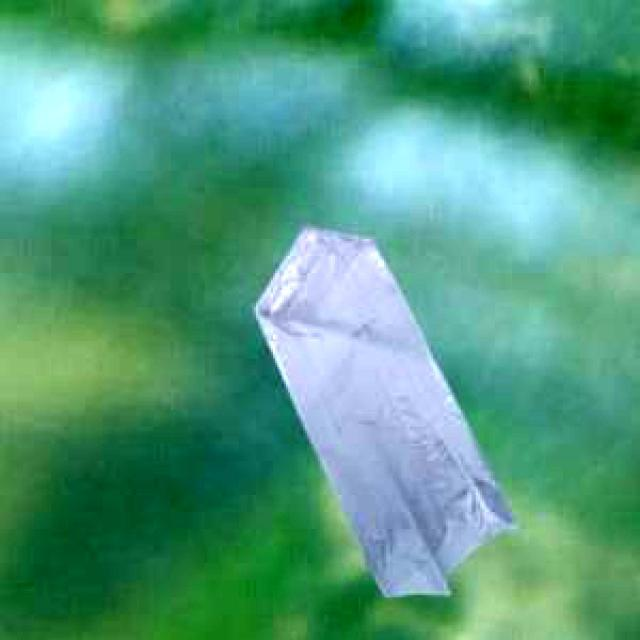Plastic_Bag: (252, 223, 516, 594)
